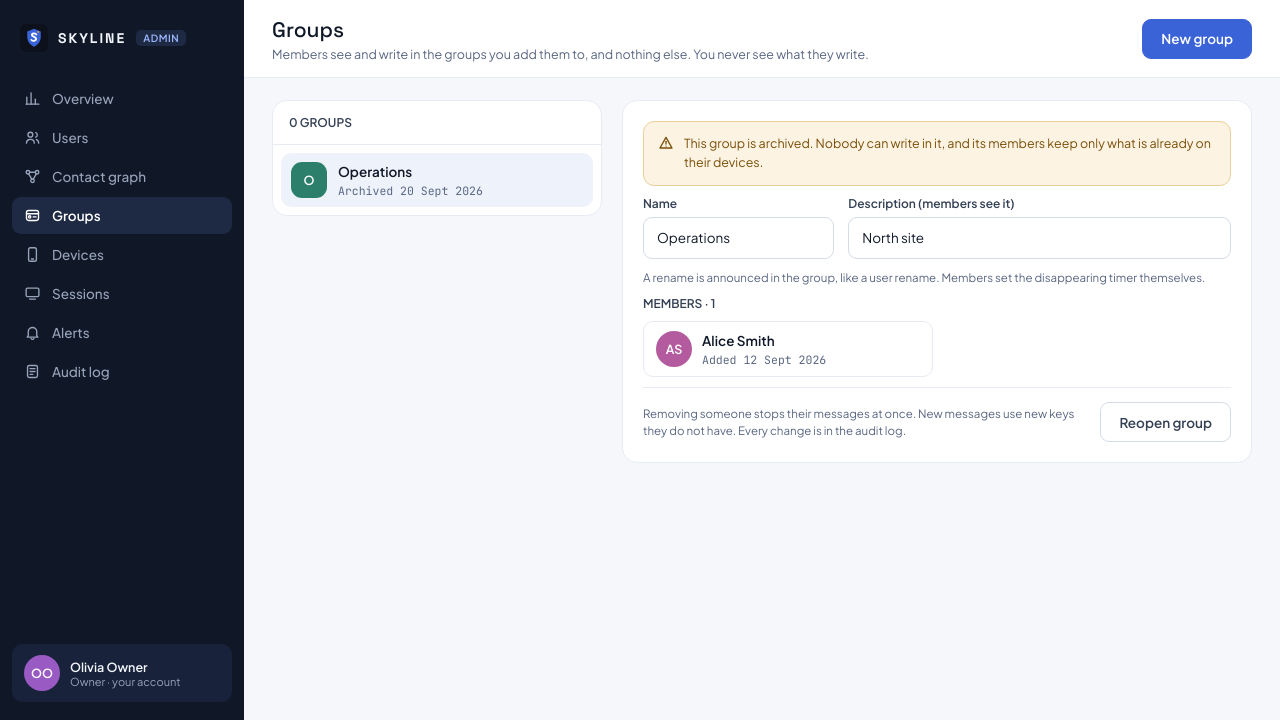
Test case: groups (board 31) › an archived group is read-only and can be reopened
Check: the text "This group is archived" is shown, box [684, 135, 1211, 170]
Click the button "Reopen group".
click(1166, 422)  # box [1100, 402, 1231, 442]
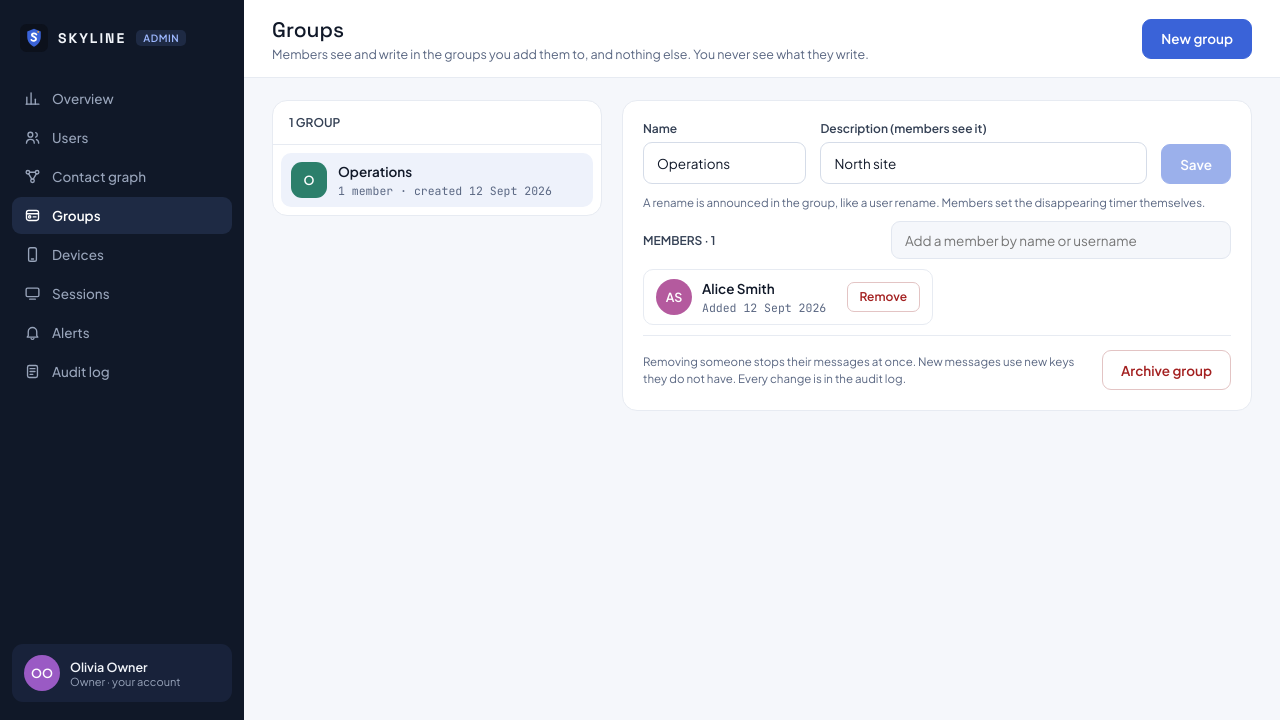
Check: the button with aria-label "Remove Alice Smith" is shown, box [847, 282, 920, 312]
